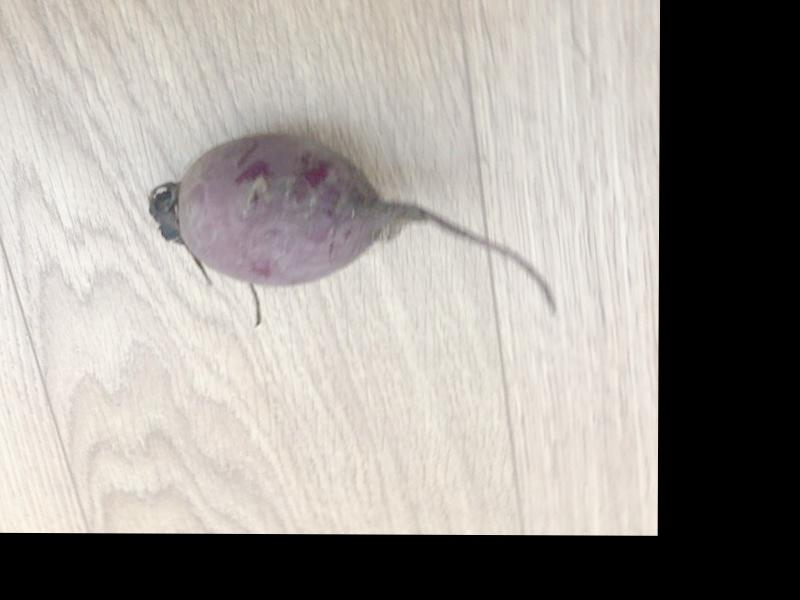Beet: (150, 136, 558, 326)
